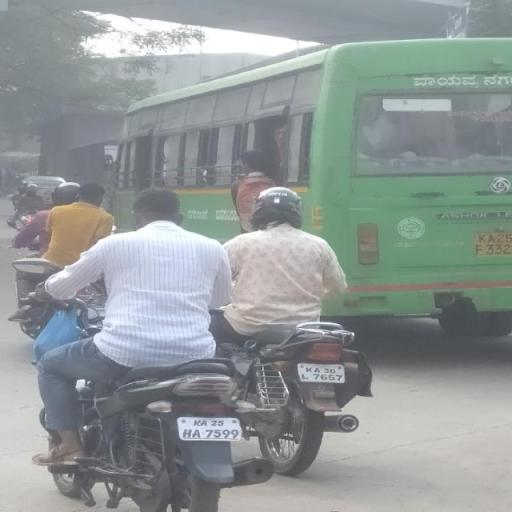bike: (17, 185, 258, 512)
numberplate: (174, 416, 244, 442)
withouthelmet: (136, 191, 178, 222)
